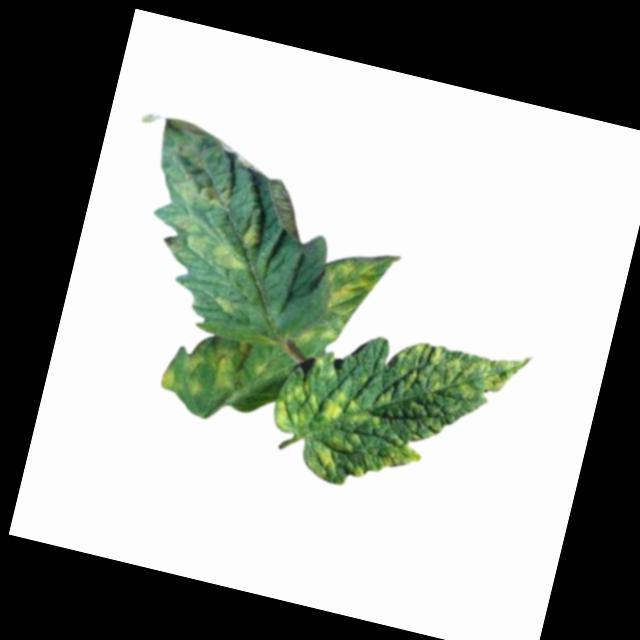Leaf_Mold: (261, 301, 532, 517), (154, 166, 271, 276), (308, 237, 399, 351), (159, 326, 252, 412), (209, 290, 240, 319)
